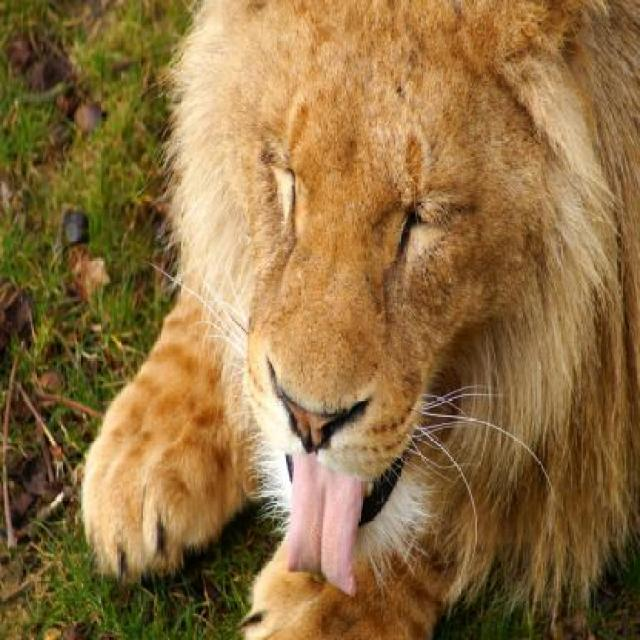Lion: (80, 6, 628, 639)
